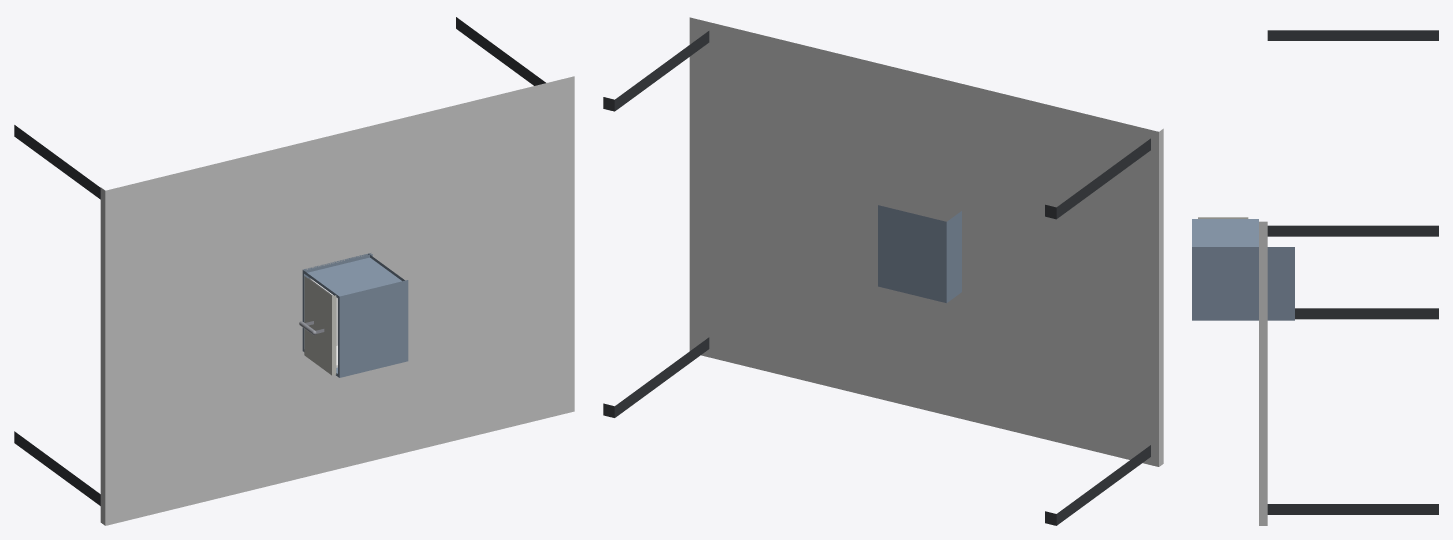
3 renders of one model, left to right at view 1: azimuth 30°, elevation 25°; view 2: azimuth 150°, elevation 25°; view 3: azimuth 270°, elevation 25°, orthographic. The views are drawn at different scales.
Visible parts, largest first — view 1: s0, s1, s2; view 2: s0, s1; view 3: s0, s1.
Part boxes in pixels (x1,y1,x2,y2): s0: (14, 17, 574, 525); s1: (302, 253, 408, 377); s2: (299, 276, 337, 375); s0: (603, 17, 1163, 525); s1: (878, 205, 961, 303); s0: (1259, 30, 1438, 525); s1: (1192, 219, 1294, 320).
Bounding box in the file's own units: 2.05 × 1.4 × 1.03.
